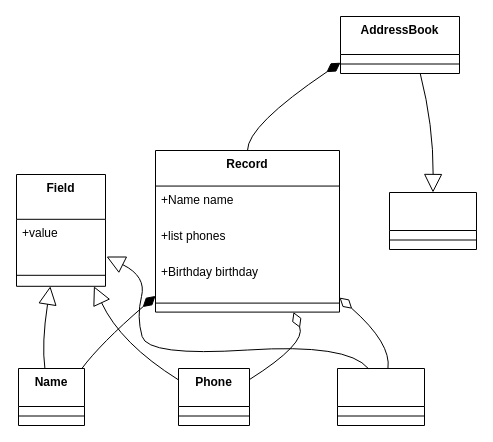
Image size: 493x442. Some labels were removed from this diagram. The box of each missing label's shape, as (x1, y1, x2, y2) in pixels:
Birthday: (336, 368, 424, 426)
UserDict: (388, 192, 476, 250)
